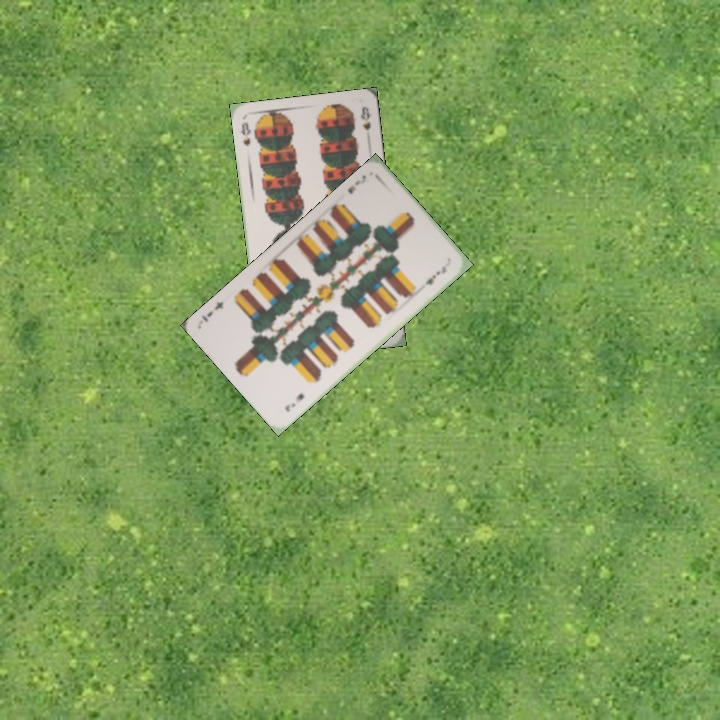E7: (281, 389, 307, 414), (344, 171, 369, 196)
S8: (236, 118, 253, 149)
